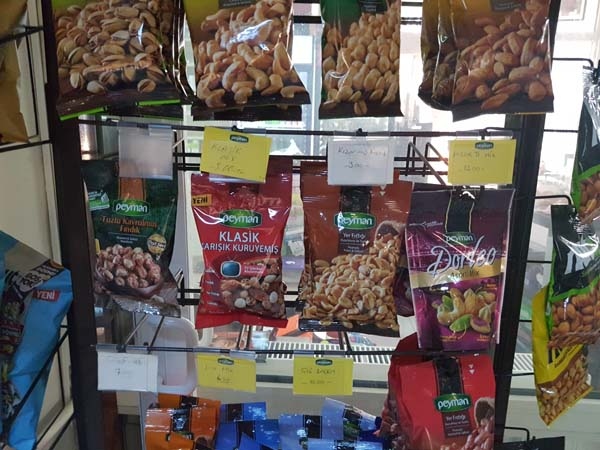peysankavrulmusfindik: (82, 157, 184, 324), (48, 1, 186, 124)
